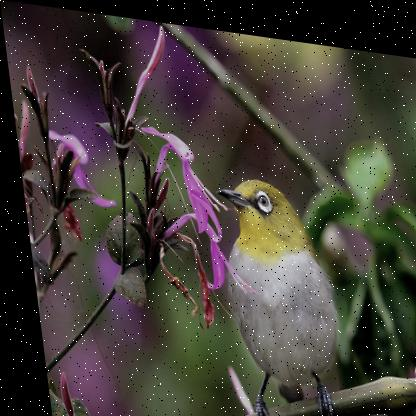Burung: (209, 166, 343, 415)
